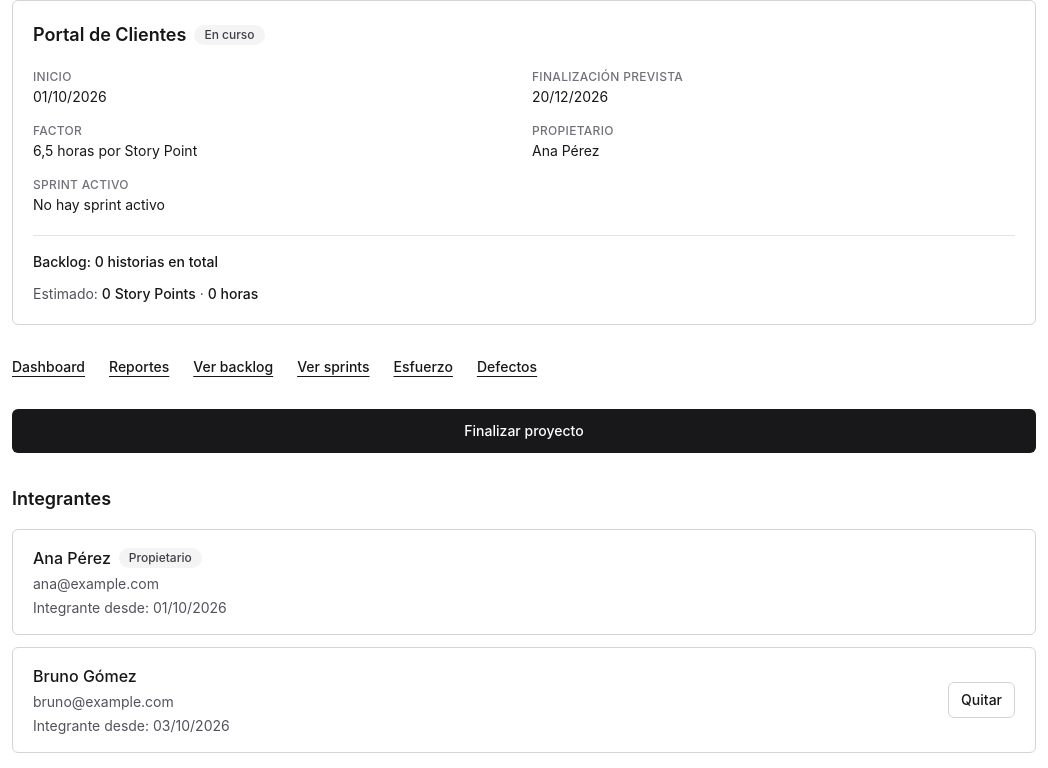
Test case: 002/US6 - Avanzar el estado del proyecto › Finalización anticipada
Expected: the list named "integrantes" is shown, [12, 529, 1036, 753]
Step 1. Click the button "Finalizar proyecto" → (524, 431), box [12, 409, 1036, 453]
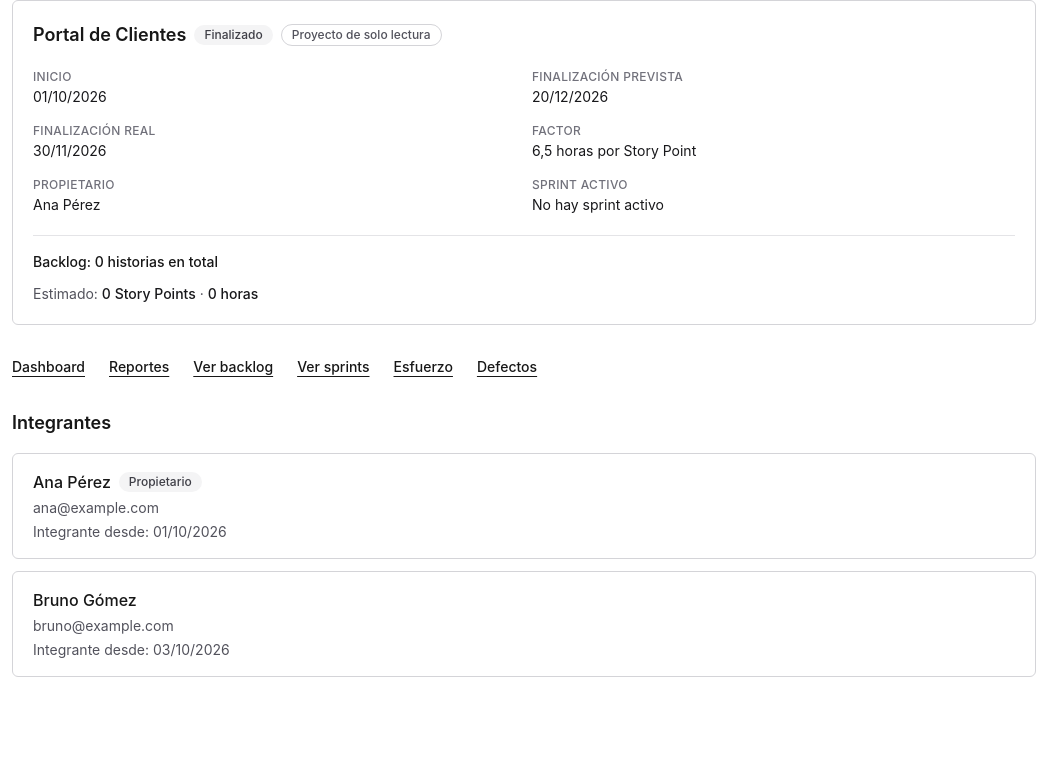
Expected: the text "Finalizado" is shown, [194, 25, 273, 45]
